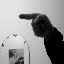g: (17, 12, 53, 38)
